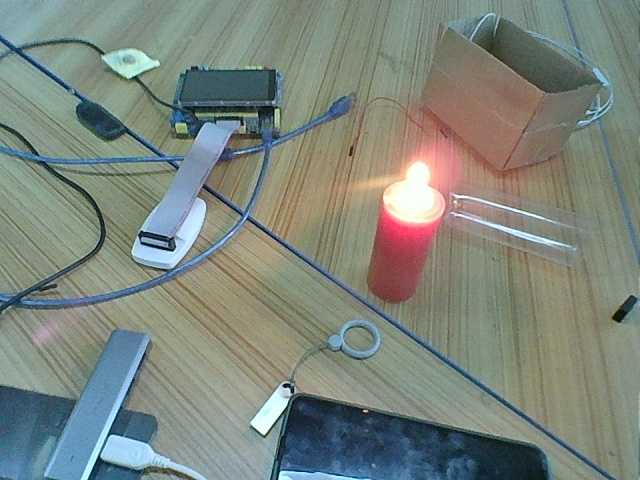candle: (364, 203, 448, 302)
fire: (391, 160, 436, 206)
